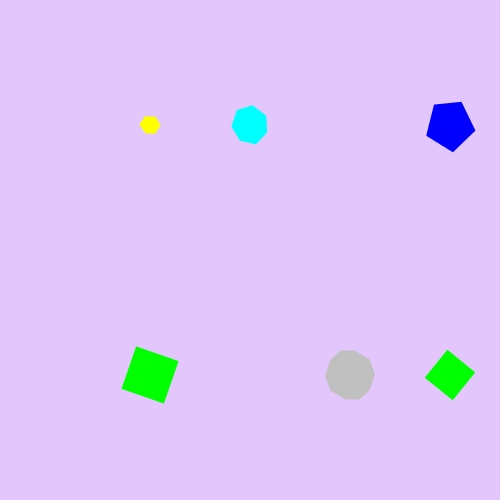decagon: (321, 348, 380, 402)
heptagon: (227, 103, 273, 147)
hexagon: (135, 112, 165, 138)
pentagon: (422, 97, 478, 153)
quadrilateral: (116, 341, 185, 410), (422, 347, 479, 404)
